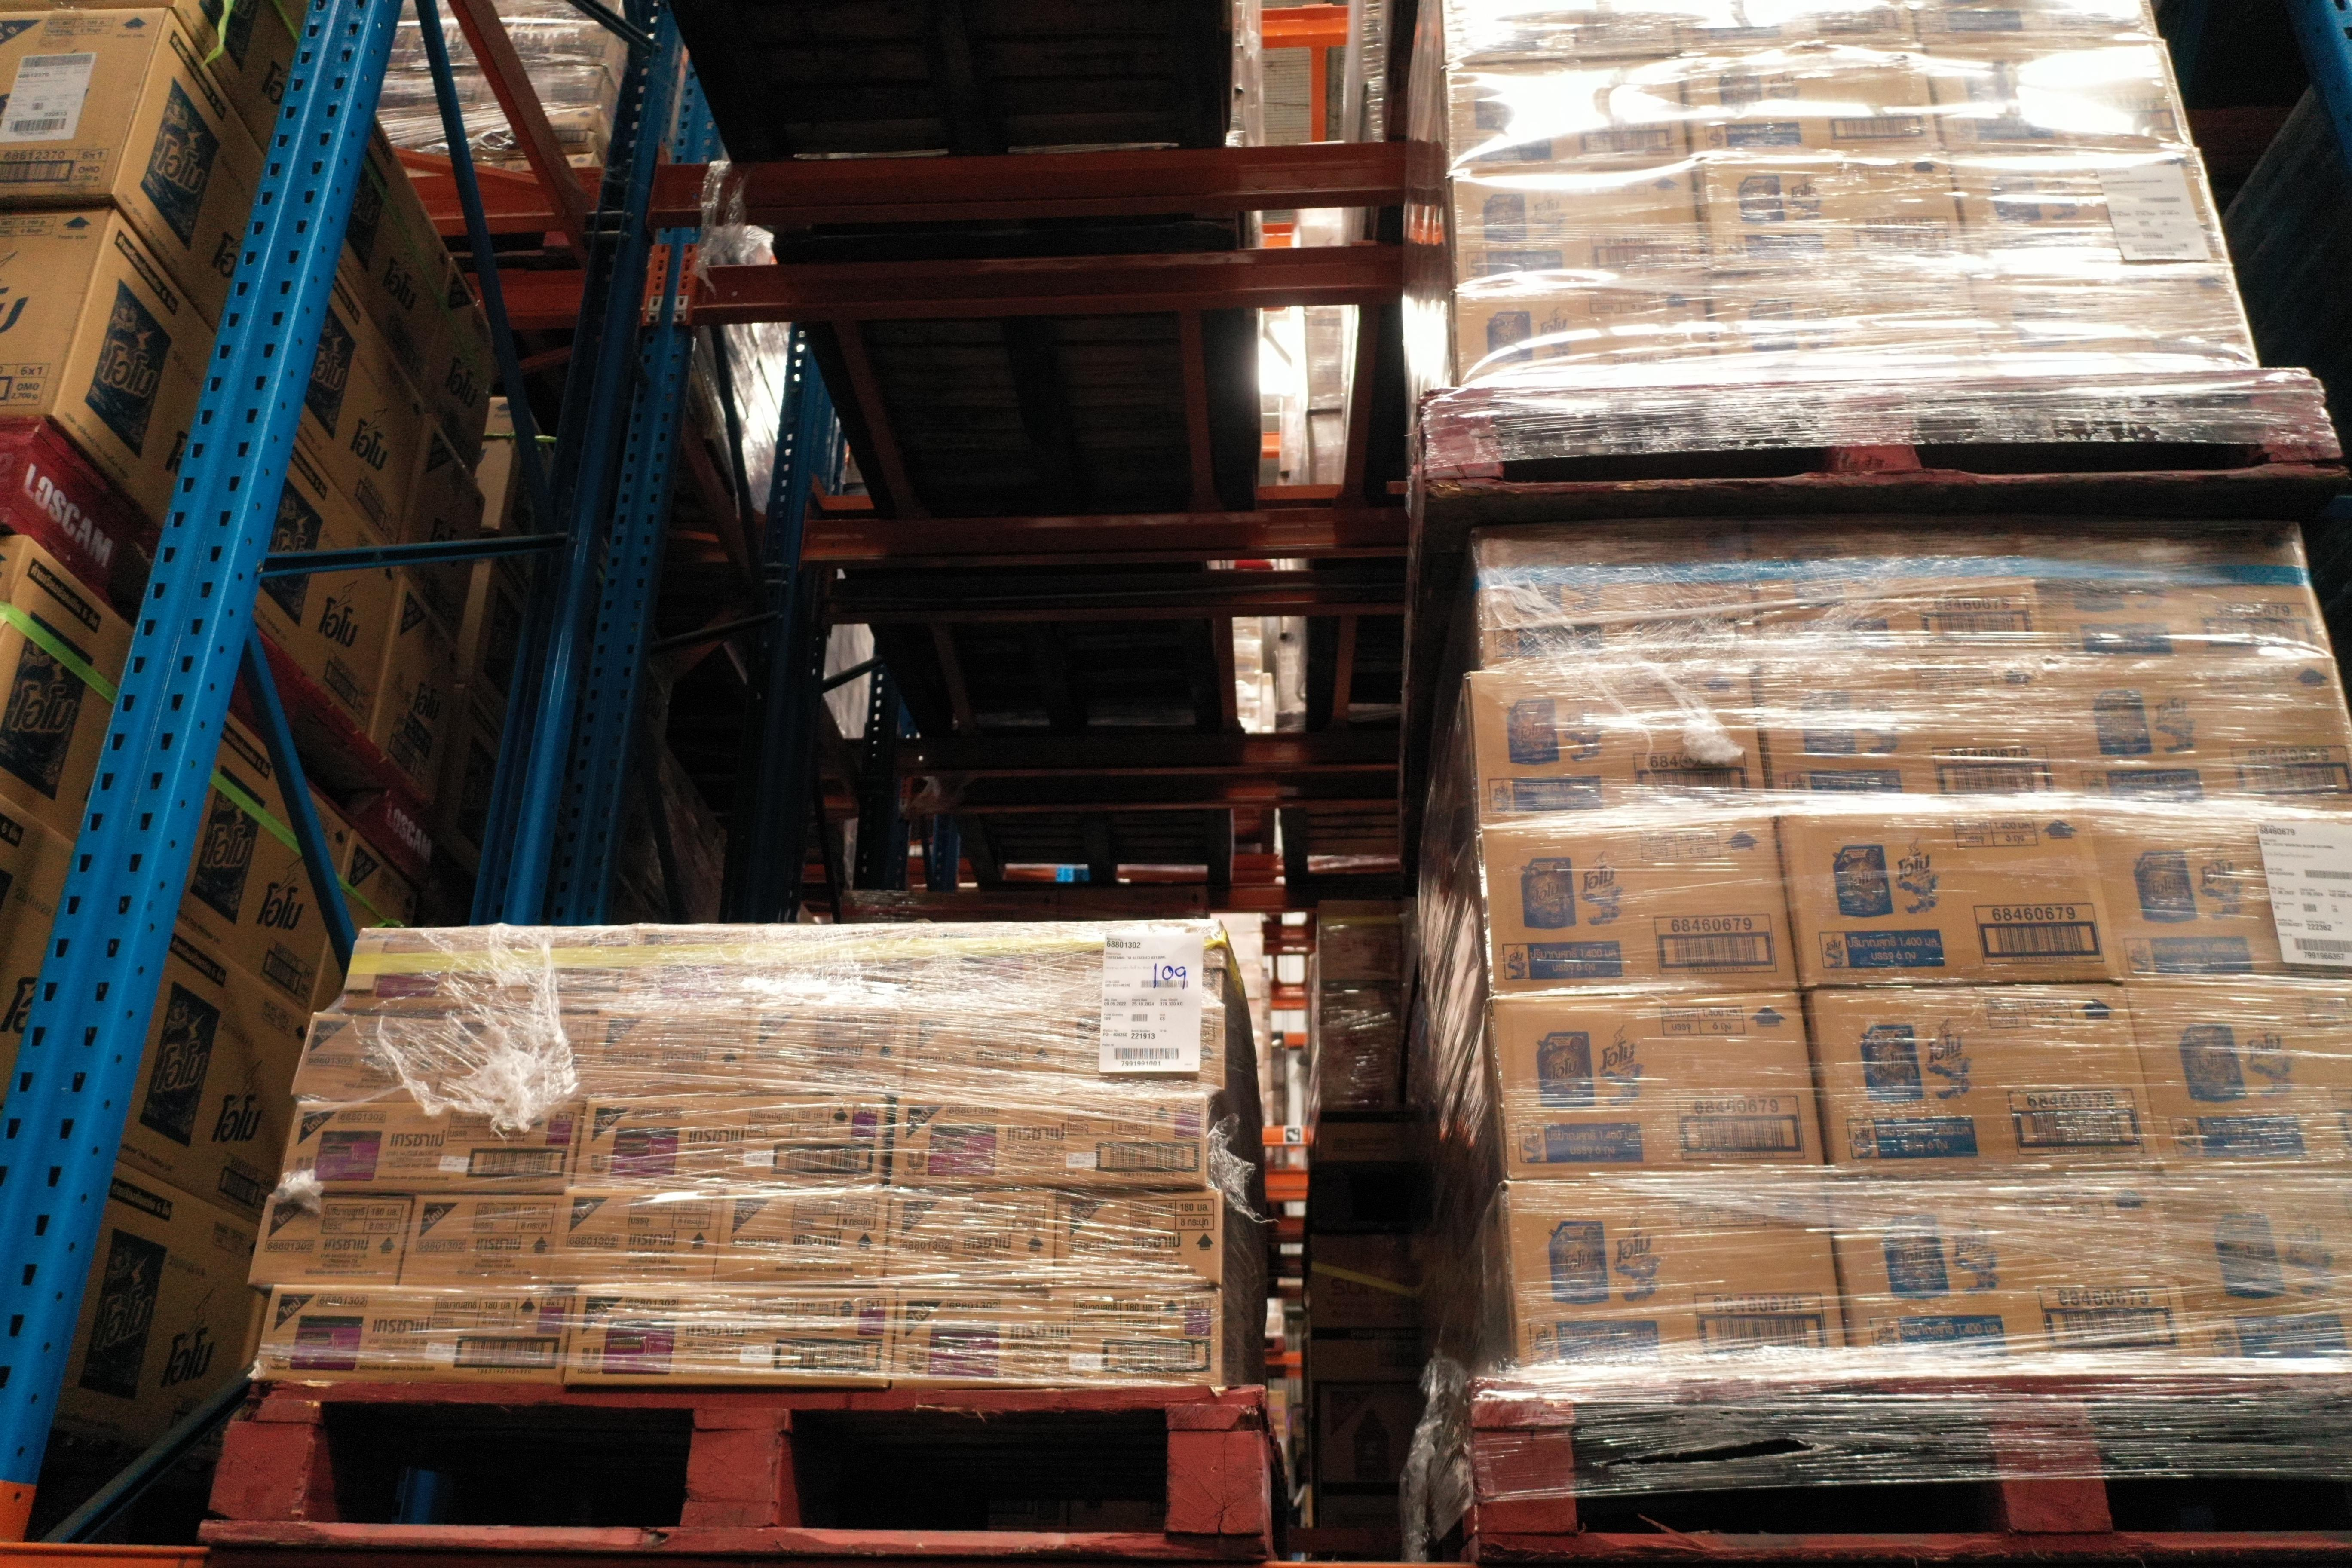-: (1825, 1176, 2198, 1388), (1501, 1178, 1853, 1386), (1808, 982, 2161, 1176), (1487, 992, 1825, 1181), (1773, 810, 2123, 990), (1477, 819, 1799, 999), (1755, 649, 2079, 817), (2051, 647, 2352, 819), (1468, 660, 1773, 828), (2091, 808, 2352, 980), (1472, 518, 1764, 670), (2026, 516, 2334, 658), (2128, 976, 2352, 1169), (1743, 514, 2046, 653), (2158, 1167, 2352, 1375), (1696, 154, 1976, 290), (1951, 147, 2233, 282), (562, 1288, 901, 1386), (1451, 163, 1708, 290), (887, 1290, 1221, 1388), (1683, 44, 1948, 166), (0, 9, 168, 201), (1925, 38, 2196, 157), (572, 1095, 889, 1195), (885, 1095, 1206, 1193), (252, 1284, 574, 1379), (1708, 280, 1988, 388), (276, 1101, 586, 1199), (1972, 273, 2261, 378), (908, 922, 1221, 1017), (612, 924, 915, 1020), (1454, 285, 1722, 394), (1444, 58, 1694, 173), (341, 922, 628, 1015), (0, 205, 115, 422), (709, 1188, 892, 1293), (1055, 1186, 1221, 1297), (884, 1188, 1057, 1291), (548, 1193, 723, 1293), (245, 1195, 415, 1290), (397, 1195, 565, 1290), (576, 1011, 747, 1102), (1064, 1006, 1225, 1102), (290, 1010, 451, 1102), (738, 1015, 912, 1099), (906, 1011, 1064, 1102), (434, 1015, 588, 1106)
